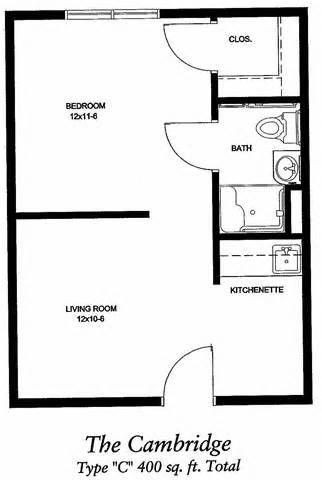door: (161, 340, 215, 405), (163, 119, 220, 171), (159, 20, 217, 71)
room: (6, 10, 210, 236), (13, 202, 163, 409), (166, 238, 313, 407), (215, 94, 307, 242), (211, 5, 308, 107)
wall: (298, 8, 315, 401), (4, 13, 20, 411), (298, 15, 313, 397), (158, 3, 309, 24), (4, 207, 160, 226), (207, 168, 227, 293), (214, 391, 317, 411), (13, 394, 159, 408), (216, 227, 311, 245), (160, 8, 305, 17), (6, 4, 66, 25), (214, 94, 297, 109), (207, 73, 221, 120), (281, 180, 293, 234), (286, 179, 305, 194)
window: (67, 1, 160, 26)
